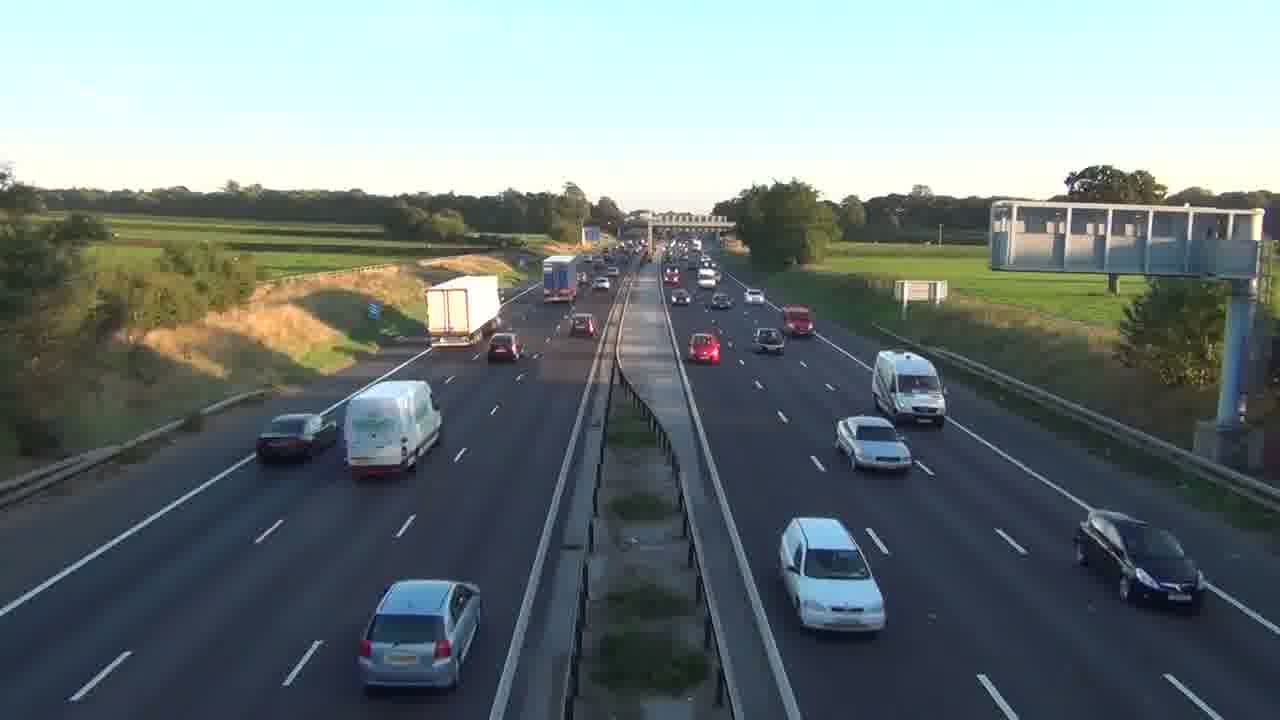bus: (871, 349, 947, 428)
car: (356, 577, 482, 695), (777, 514, 887, 635), (833, 414, 913, 474), (489, 334, 517, 362)
truck: (1073, 508, 1204, 611), (344, 379, 443, 479), (425, 274, 502, 350)
